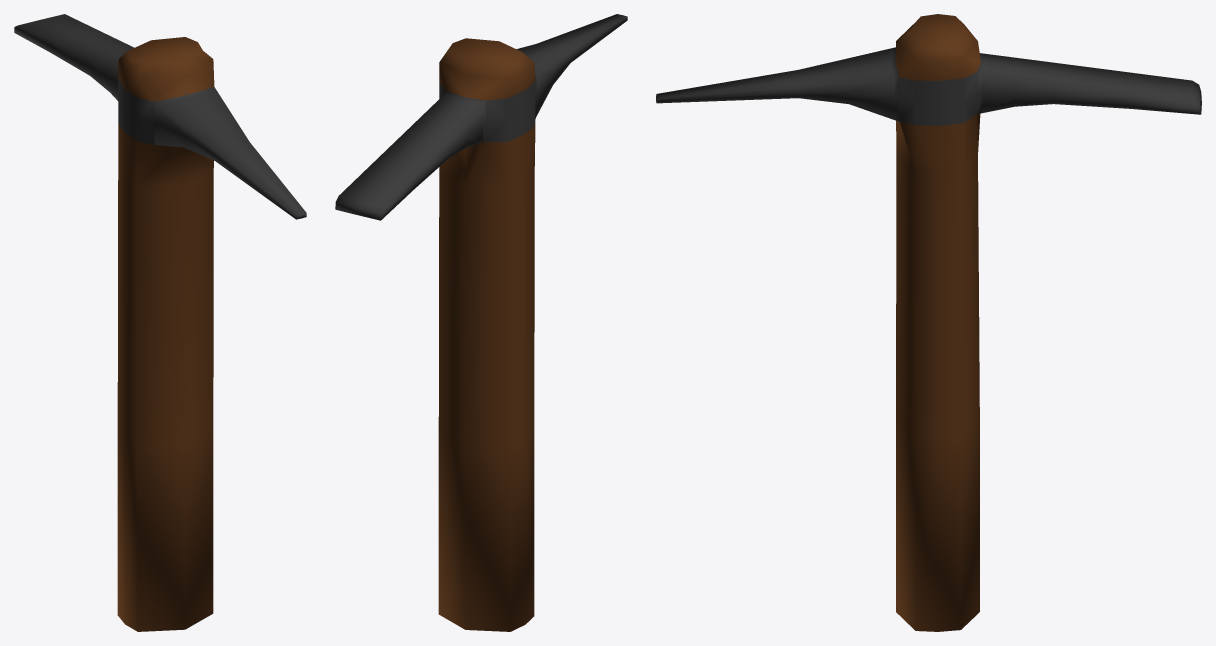
Rendered from pickaxe.fbx.
The picture shows the model from 3 angles, left to right: view 1: azimuth 30°, elevation 25°; view 2: azimuth 150°, elevation 25°; view 3: azimuth 270°, elevation 25°; orthographic projection. The views are drawn at different scales.
Parts seen in each view (by area): view 1: Axe; view 2: Axe; view 3: Axe.
Part boxes in pixels (x1,y1,x2,y2): Axe: (14,14,306,631); Axe: (335,14,627,631); Axe: (656,14,1201,631).
Bounding box in the file's own units: 22.48 × 153 × 130.
1 material, 1 textured.
